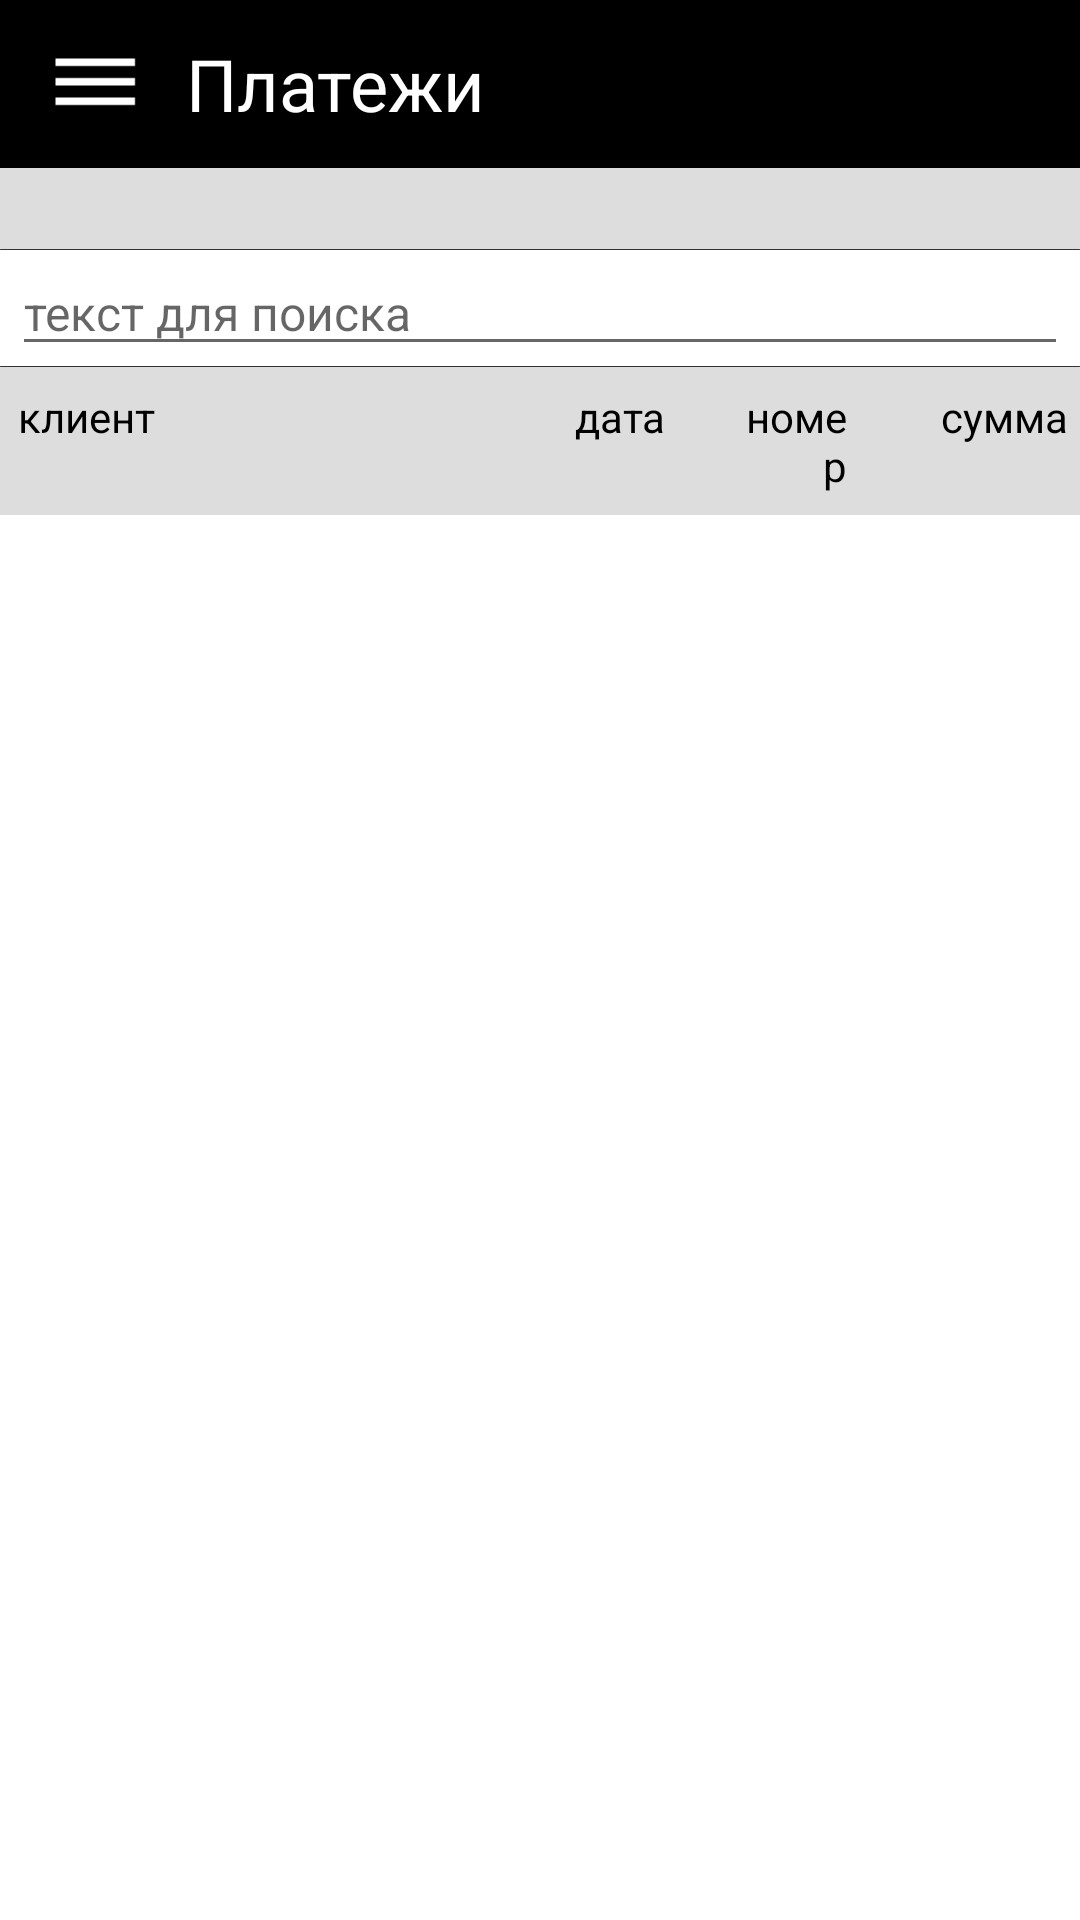

Screen size 1080w x 1920h. Icon name, then its box in pixels as detection(x1, y1, x2, y2):
mainmenu: detection(55, 58, 136, 106)
